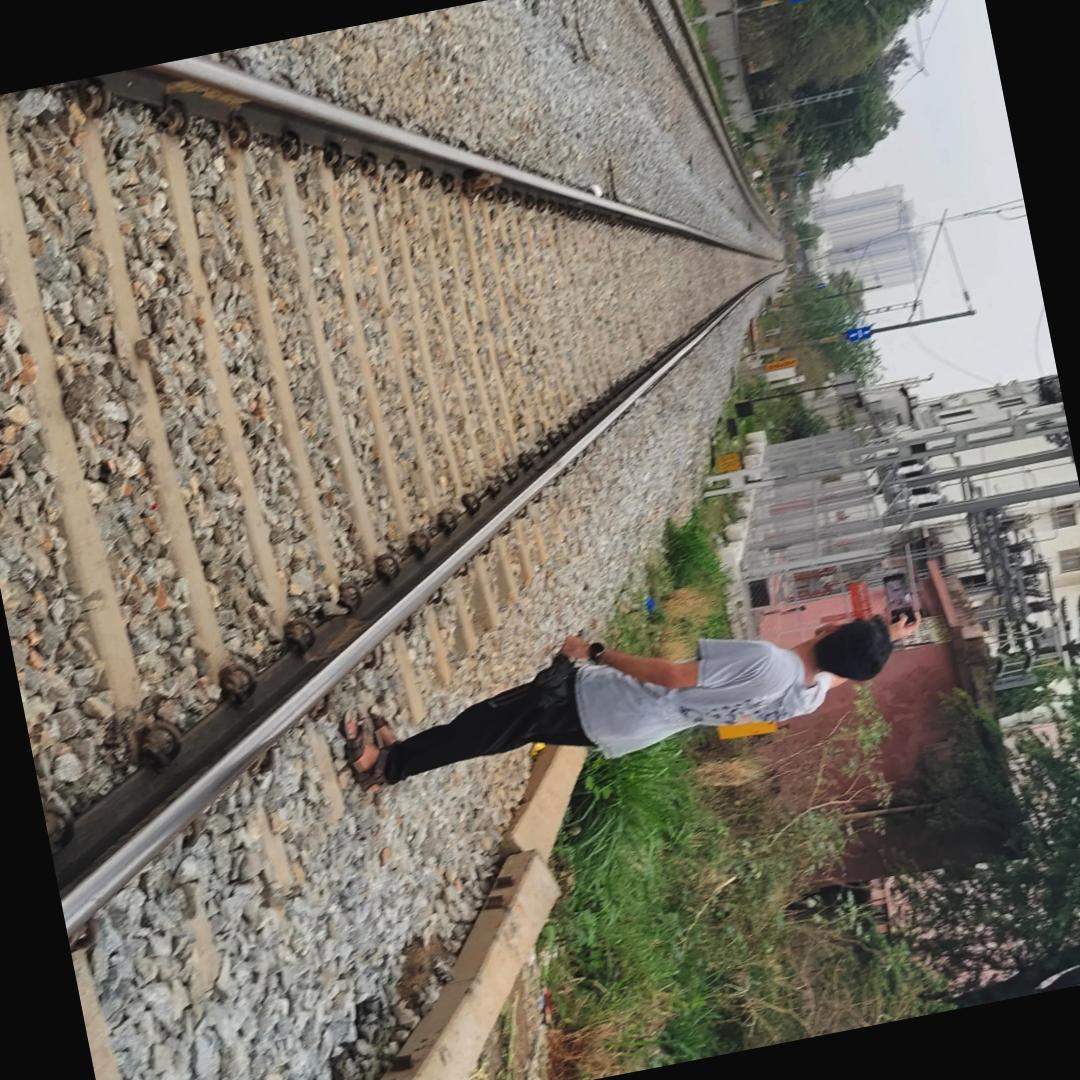standing: (301, 575, 955, 861)
track: (0, 44, 799, 1080)
